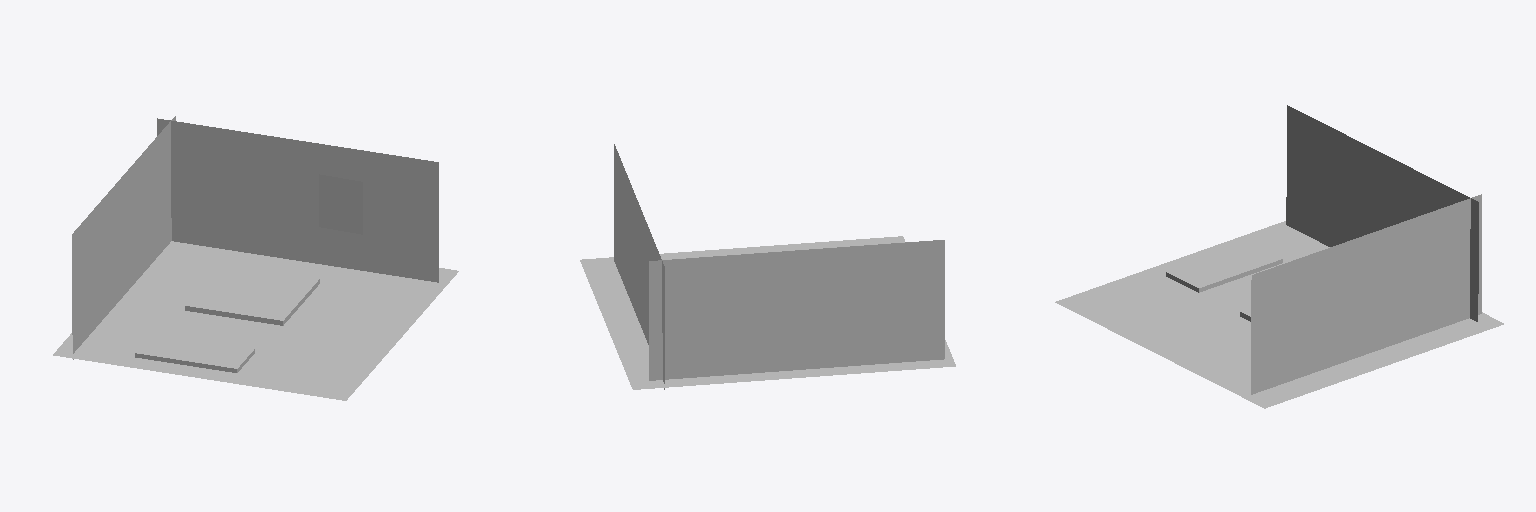
The model's file is scene_frame.obj.
3 renders of one model, left to right at view 1: azimuth 30°, elevation 25°; view 2: azimuth 150°, elevation 25°; view 3: azimuth 270°, elevation 25°, orthographic.
Parts seen in each view (by area): view 1: Plane.001_Plane.002, Plane.002_Plane.003, Plane_Plane.001, Cube.008_Cube.024, Cube.009_Cube.025, Plane.004_Plane.005; view 2: Plane_Plane.001, Plane.002_Plane.003, Plane.001_Plane.002; view 3: Plane.001_Plane.002, Plane.002_Plane.003, Plane_Plane.001, Cube.009_Cube.025.
Part boxes in pixels (x1,y1,x2,y2): Plane.001_Plane.002: (157, 118, 438, 282); Plane.002_Plane.003: (53, 241, 458, 400); Plane_Plane.001: (72, 116, 175, 359); Cube.008_Cube.024: (185, 264, 319, 325); Cube.009_Cube.025: (135, 333, 254, 372); Plane.004_Plane.005: (319, 174, 362, 234); Plane_Plane.001: (649, 240, 944, 380); Plane.002_Plane.003: (580, 236, 955, 389); Plane.001_Plane.002: (614, 144, 664, 389); Plane.001_Plane.002: (1251, 194, 1481, 394); Plane.002_Plane.003: (1055, 221, 1503, 408); Plane_Plane.001: (1286, 105, 1478, 321); Cube.009_Cube.025: (1166, 242, 1282, 292).
Bounding box in the file's own units: 26.36 × 8.1 × 26.24.